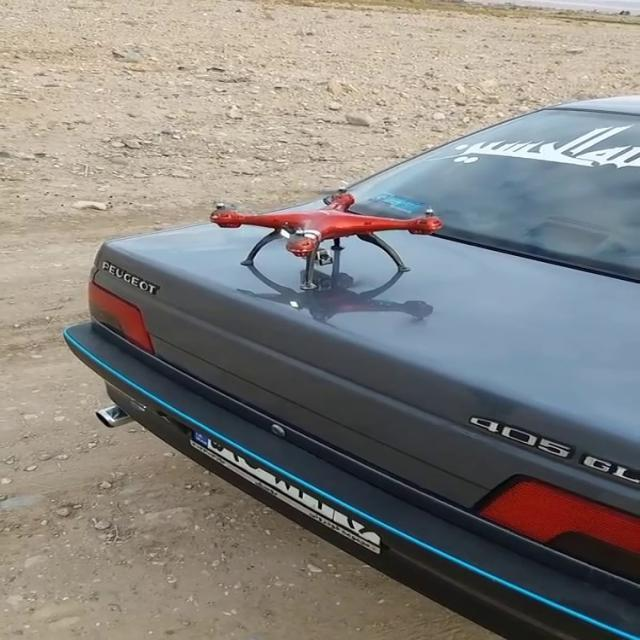drone: (200, 182, 464, 296)
